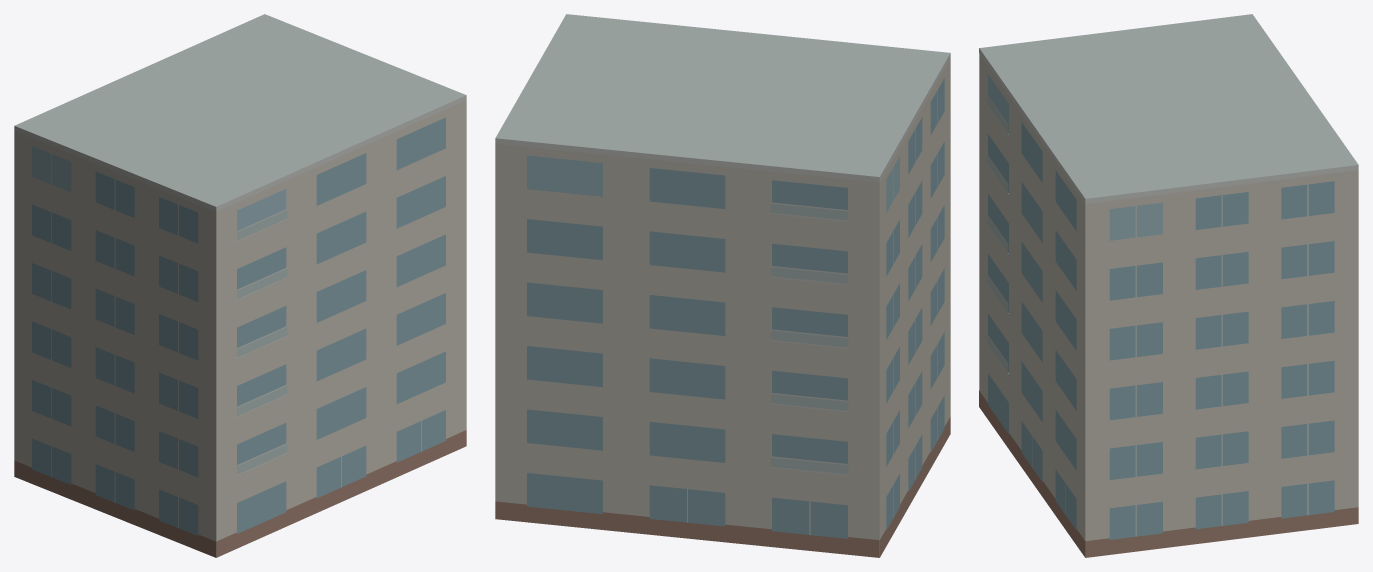
The model's file is survey-upis-32720568.glb.
3 views of the same model, side by side, from view 1: azimuth 30°, elevation 25°; view 2: azimuth 150°, elevation 25°; view 3: azimuth 270°, elevation 25° (orthographic). The views are drawn at different scales.
Visible parts, largest first — view 1: survey-upis-32720568.tmp; view 2: survey-upis-32720568.tmp; view 3: survey-upis-32720568.tmp.
Part boxes in pixels (x1,y1,x2,y2): survey-upis-32720568.tmp: (14, 14, 466, 557); survey-upis-32720568.tmp: (495, 14, 950, 557); survey-upis-32720568.tmp: (979, 14, 1358, 557).
Size of the model in its own units: 18.79 by 17 by 16.3.
